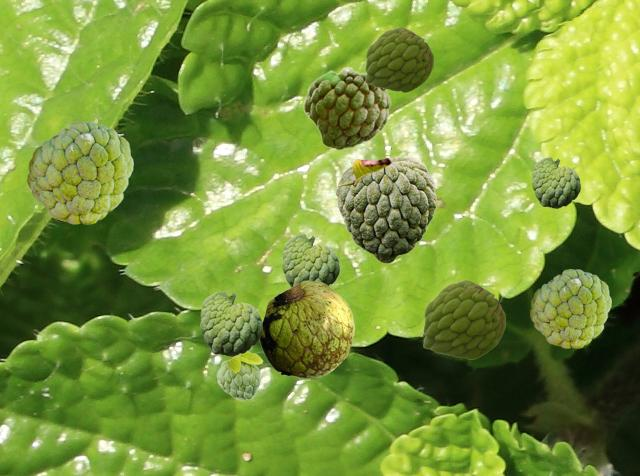atis: (27, 121, 132, 223), (335, 155, 435, 262), (259, 280, 353, 377), (302, 66, 390, 149), (423, 280, 504, 358), (530, 269, 610, 347), (365, 27, 432, 91), (200, 291, 261, 355), (282, 234, 338, 286), (532, 157, 579, 207), (216, 351, 262, 400)
